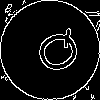Q: (25, 25, 86, 81)
